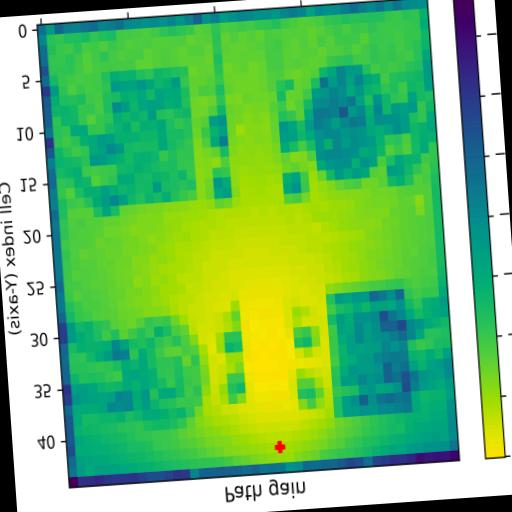Concrete: (325, 287, 413, 420)
Glass: (128, 312, 213, 430)
Metal: (301, 61, 404, 182)
Wood: (103, 66, 198, 207)
